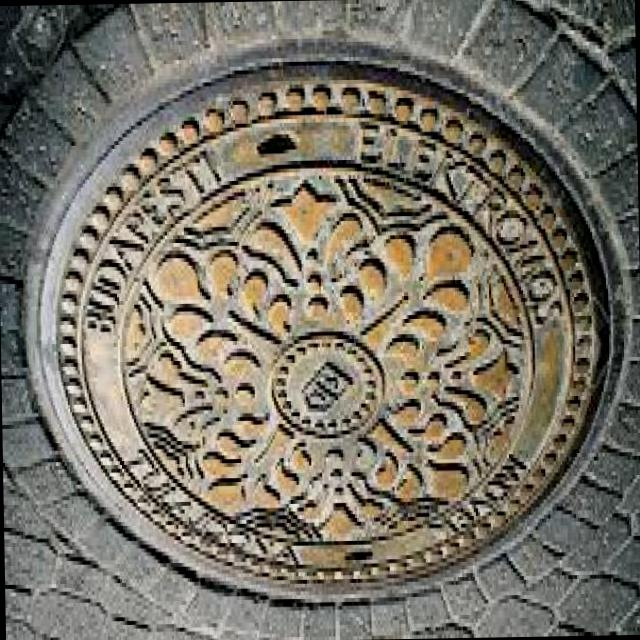manhole: (7, 0, 622, 632)
